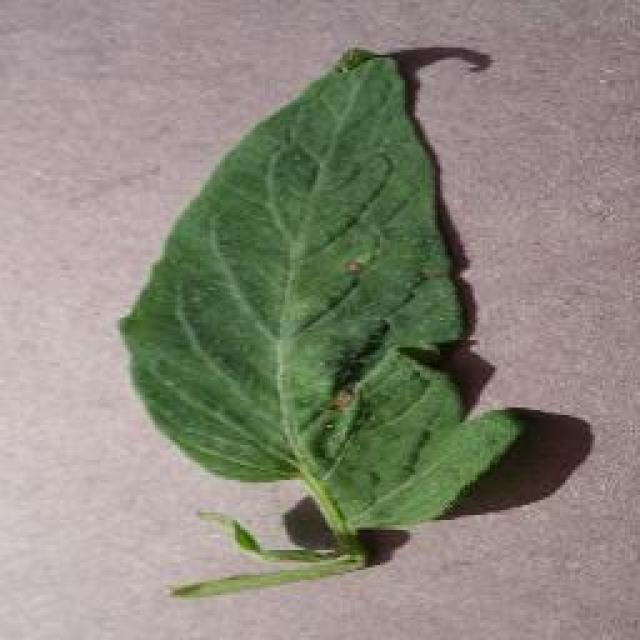Tom_Target_Spot: (320, 358, 378, 422), (335, 236, 380, 292)
